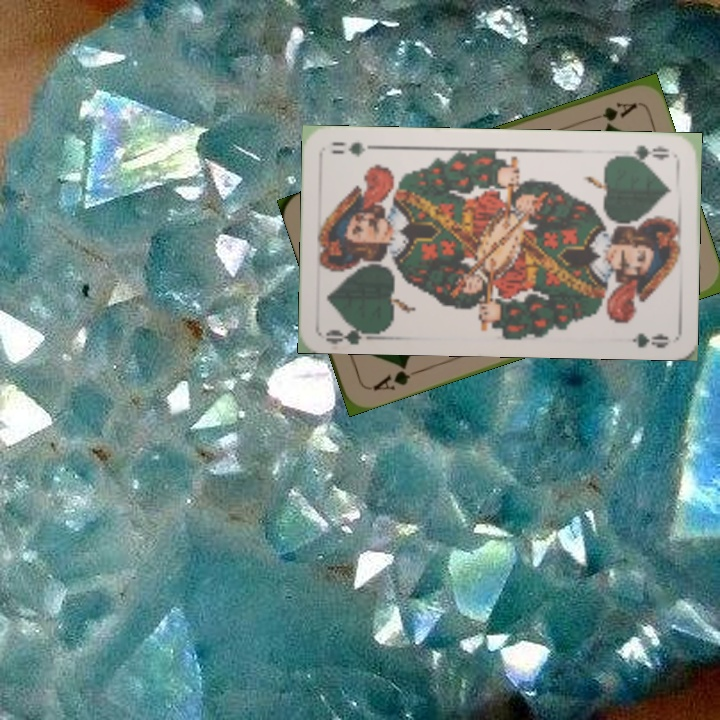GA: (365, 360, 423, 394), (582, 98, 640, 125)
GO: (323, 318, 382, 346), (616, 141, 672, 165)
